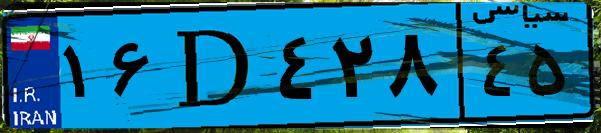1: (57, 26, 110, 100)
2: (330, 28, 385, 110)
4: (270, 28, 330, 110), (475, 38, 525, 113)
5: (525, 38, 570, 115)
6: (110, 28, 158, 98)
8: (385, 28, 445, 110)
D: (158, 12, 270, 120)
